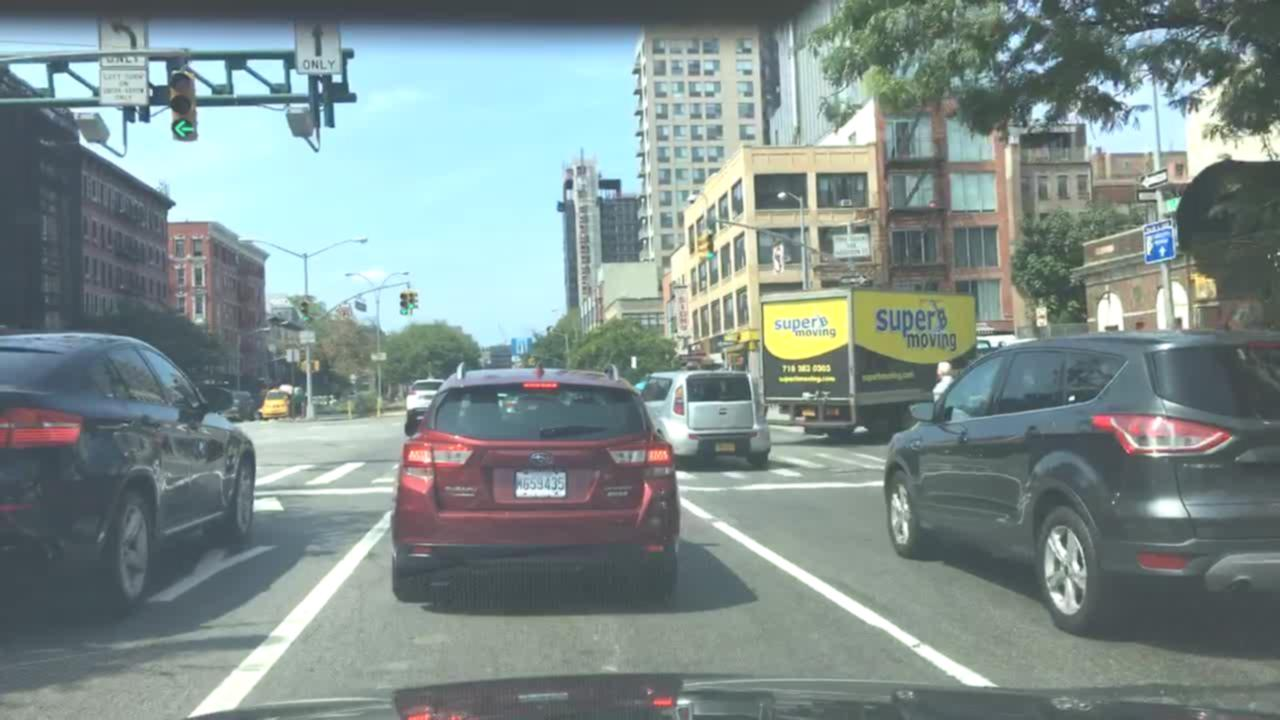subaru: (529, 448, 557, 467)
